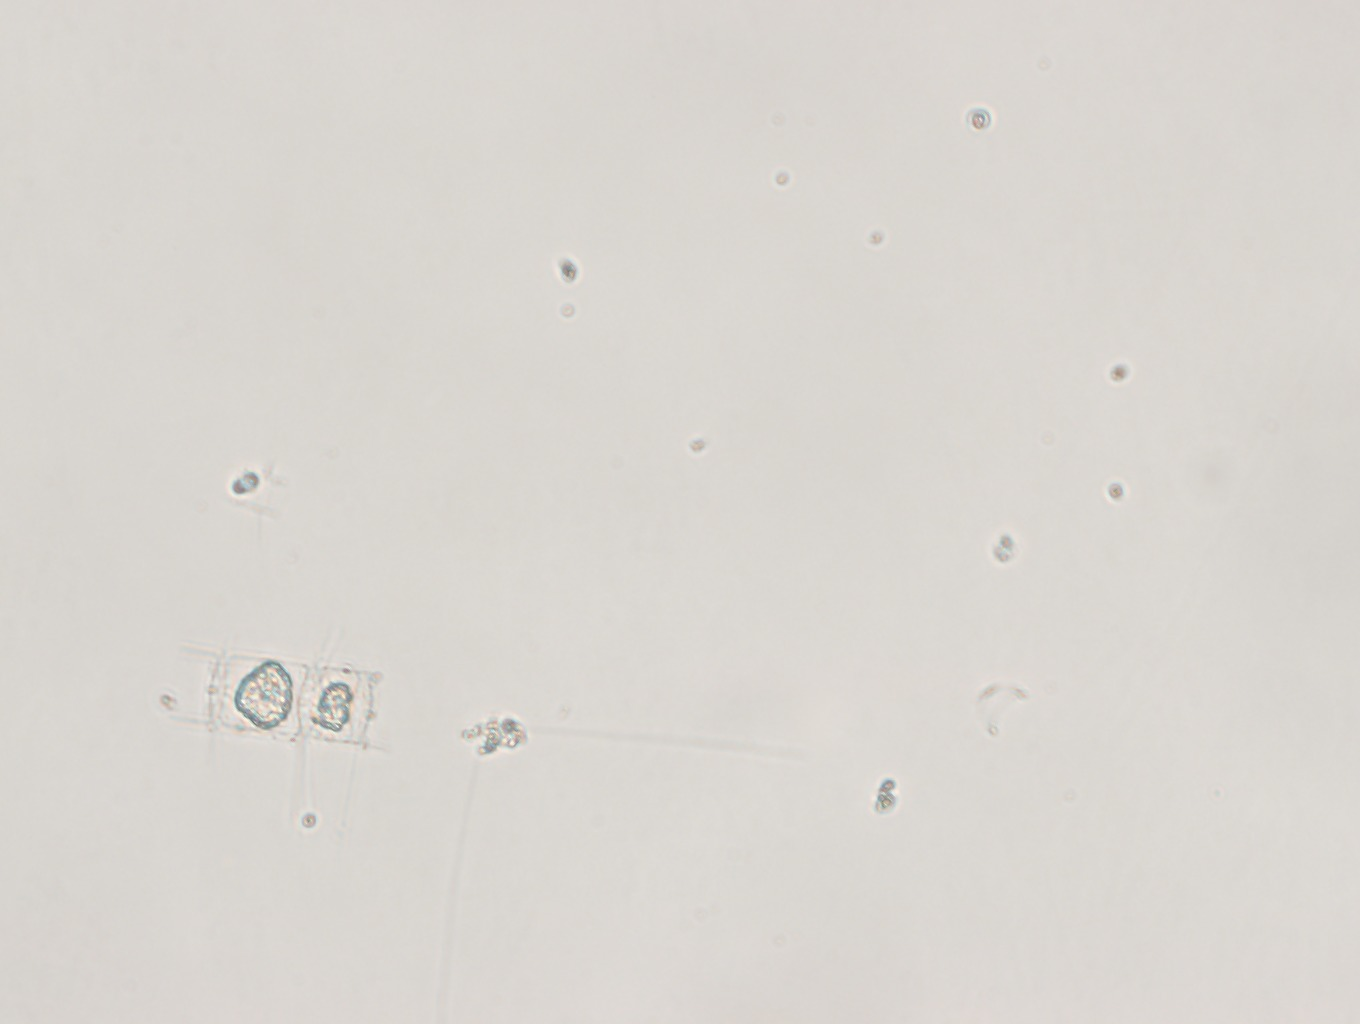chaetoceros: (140, 606, 430, 813)
